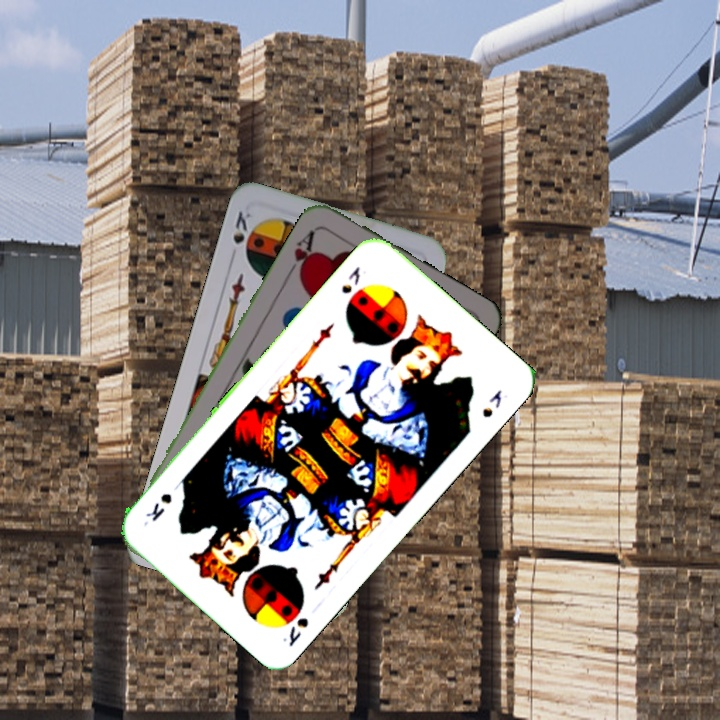HA: (283, 225, 319, 282)
SK: (228, 207, 257, 259), (278, 613, 312, 650), (337, 262, 363, 296)
